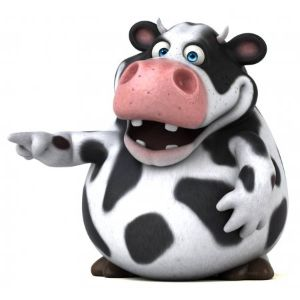cow: (6, 15, 290, 285)
